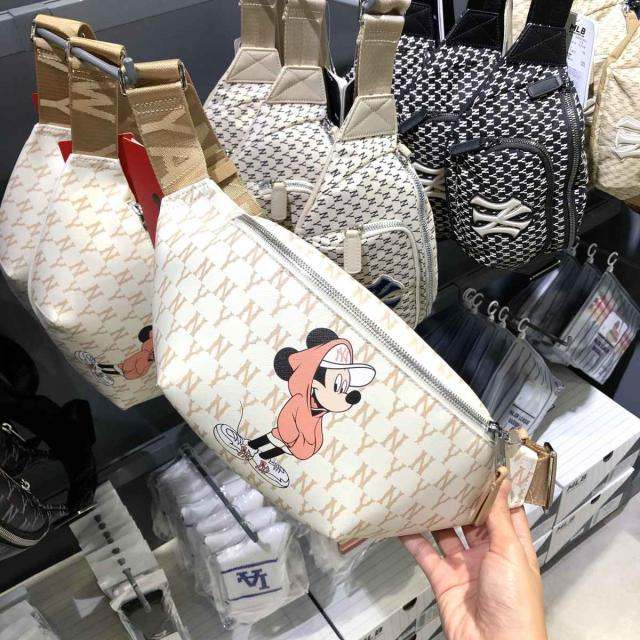Handbag: (153, 175, 502, 538)
